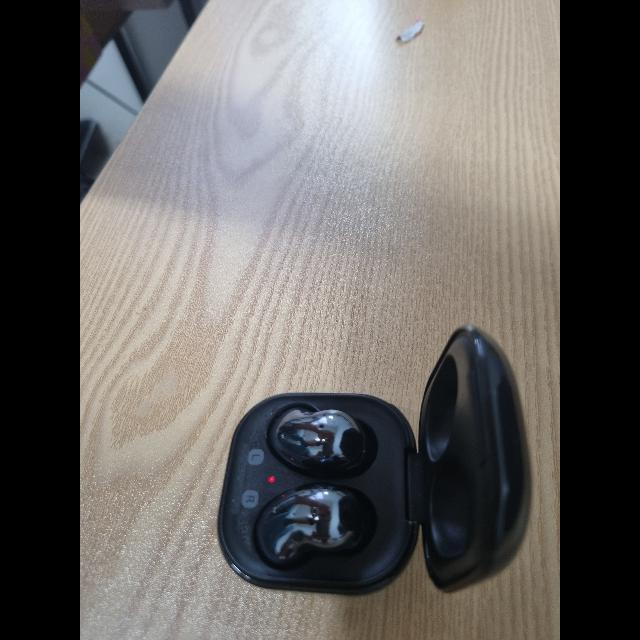buds_live: (216, 321, 534, 599)
